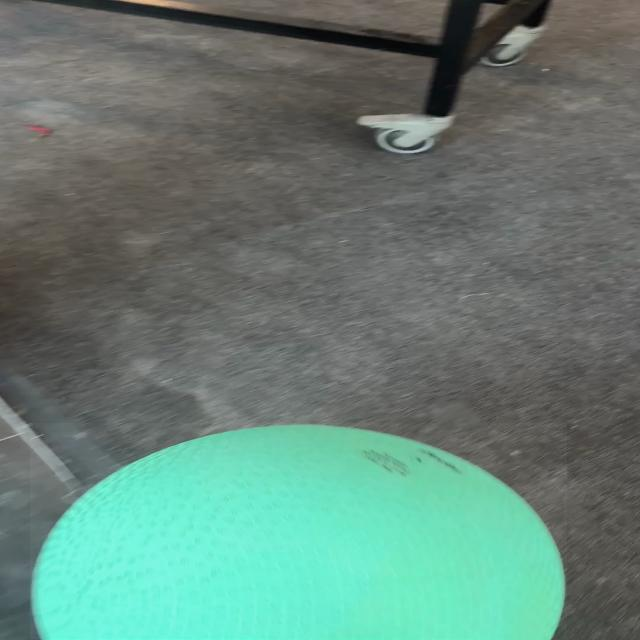Algae: (30, 423, 567, 639)
